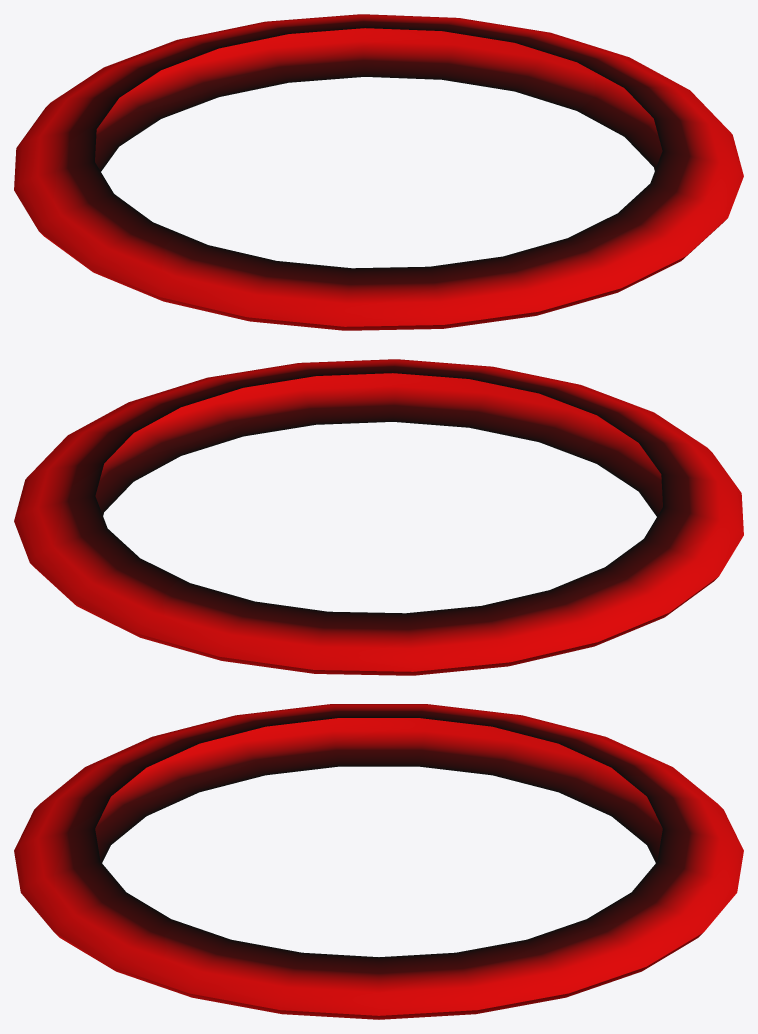
The model's file is test shockwave01.fbx.
3 views of the same model, one above another, from view 1: azimuth 30°, elevation 25°; view 2: azimuth 150°, elevation 25°; view 3: azimuth 270°, elevation 25° (orthographic).
Visible parts, largest first — view 1: Cylinder003; view 2: Cylinder003; view 3: Cylinder003.
Part boxes in pixels (x1,y1,x2,y2): Cylinder003: (14,14,743,330); Cylinder003: (14,359,743,675); Cylinder003: (14,704,743,1019).
Size of the model in its own units: 298 by 299 by 21.97.
